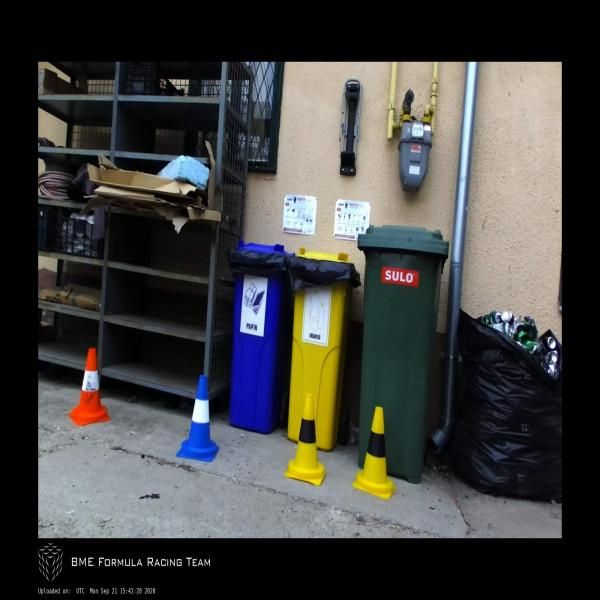blue_cone: (177, 374, 219, 461)
orange_cone: (68, 348, 111, 427)
yellow_cone: (352, 406, 396, 499), (285, 394, 326, 486)
